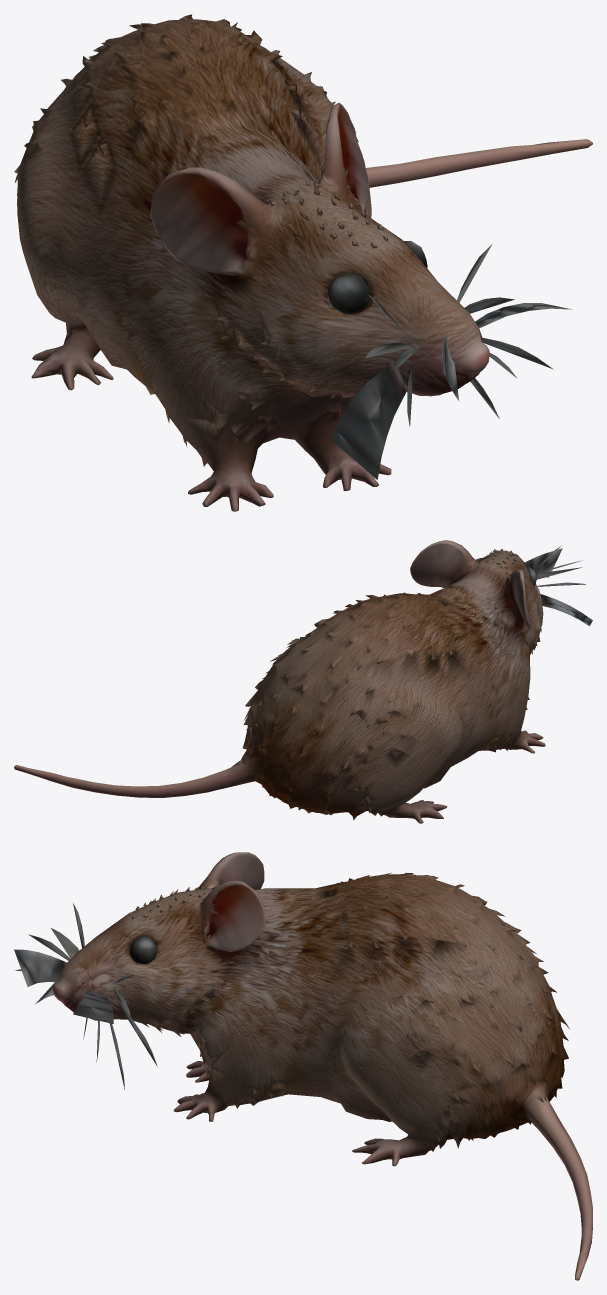
3 views of the same model, one above another, from view 1: azimuth 30°, elevation 25°; view 2: azimuth 150°, elevation 25°; view 3: azimuth 270°, elevation 25° (orthographic). The views are drawn at different scales.
Parts seen in each view (by area): view 1: tripo_node_6b63641c-c587-45f1-a091-173c71fb4973; view 2: tripo_node_6b63641c-c587-45f1-a091-173c71fb4973; view 3: tripo_node_6b63641c-c587-45f1-a091-173c71fb4973.
Boxes of the visible parts, x1,y1,x2,y2 form: tripo_node_6b63641c-c587-45f1-a091-173c71fb4973: [14, 14, 592, 511]; tripo_node_6b63641c-c587-45f1-a091-173c71fb4973: [14, 540, 592, 823]; tripo_node_6b63641c-c587-45f1-a091-173c71fb4973: [14, 852, 592, 1280].
Size of the model in its own units: 0.9082 by 0.4434 by 0.998.
1 material, 1 textured.
